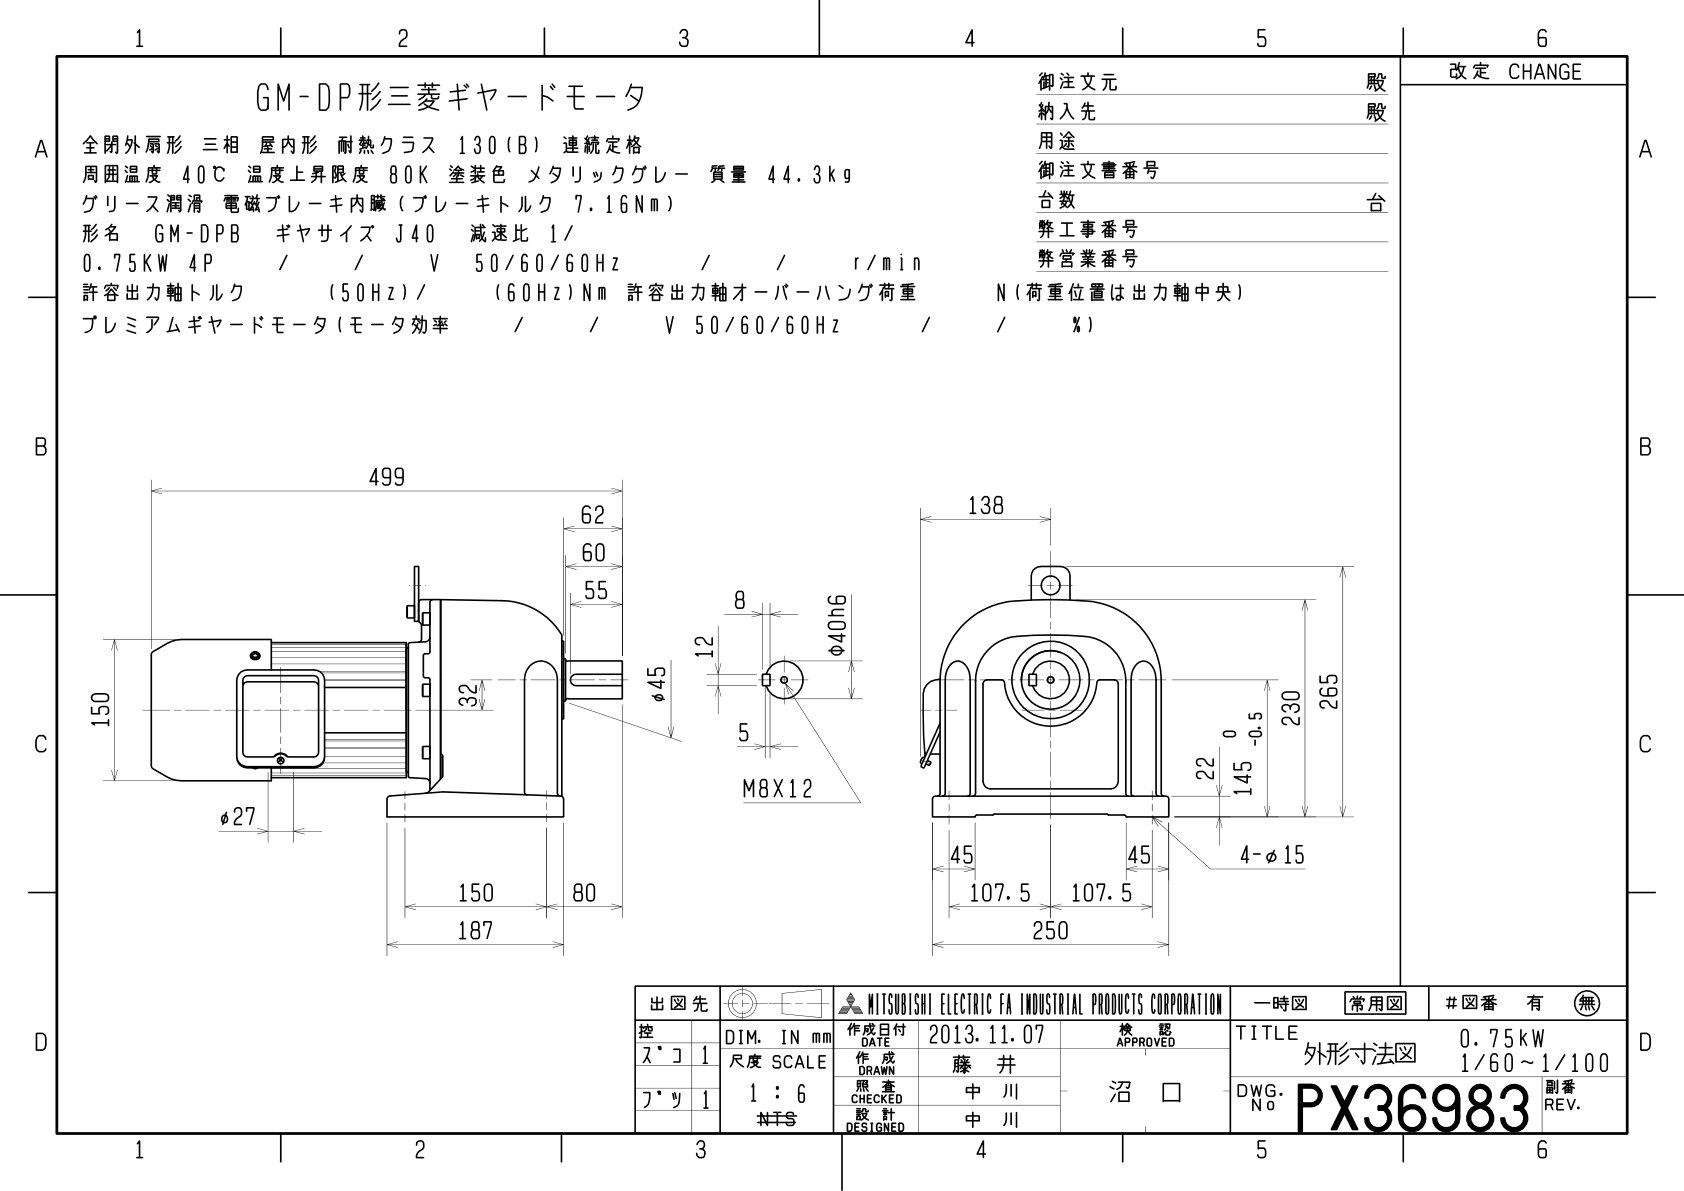GM_D_屋内＿三相_脚: (13, 8, 1684, 1179)
